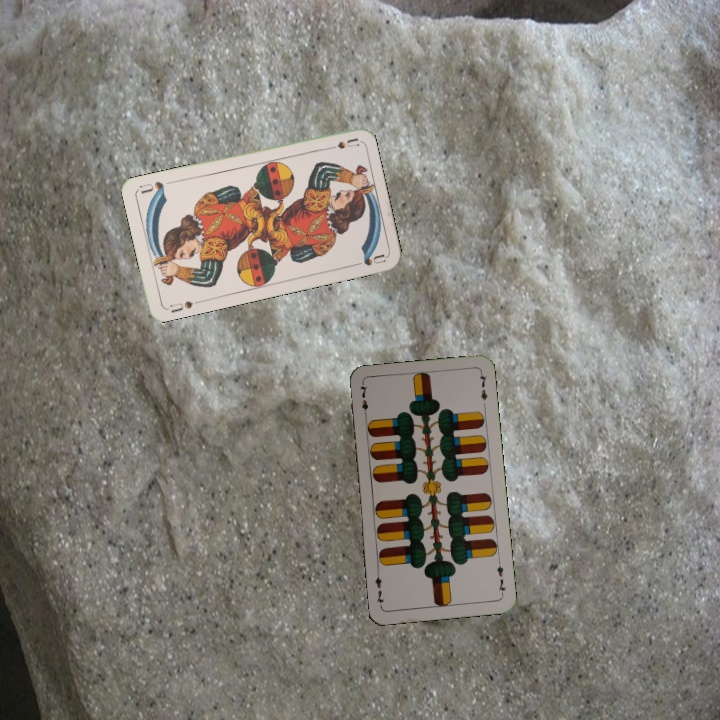E7: (493, 557, 508, 597), (357, 380, 371, 421)
SU: (320, 134, 361, 153), (165, 297, 195, 315)
